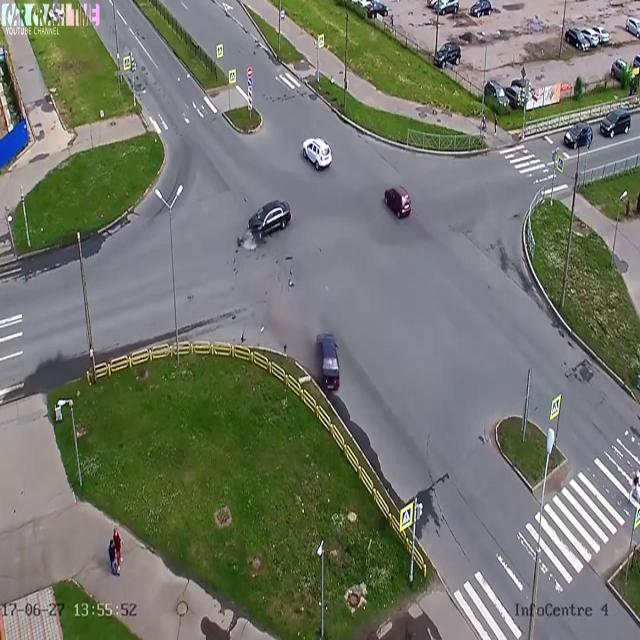accident: (242, 187, 296, 255)
